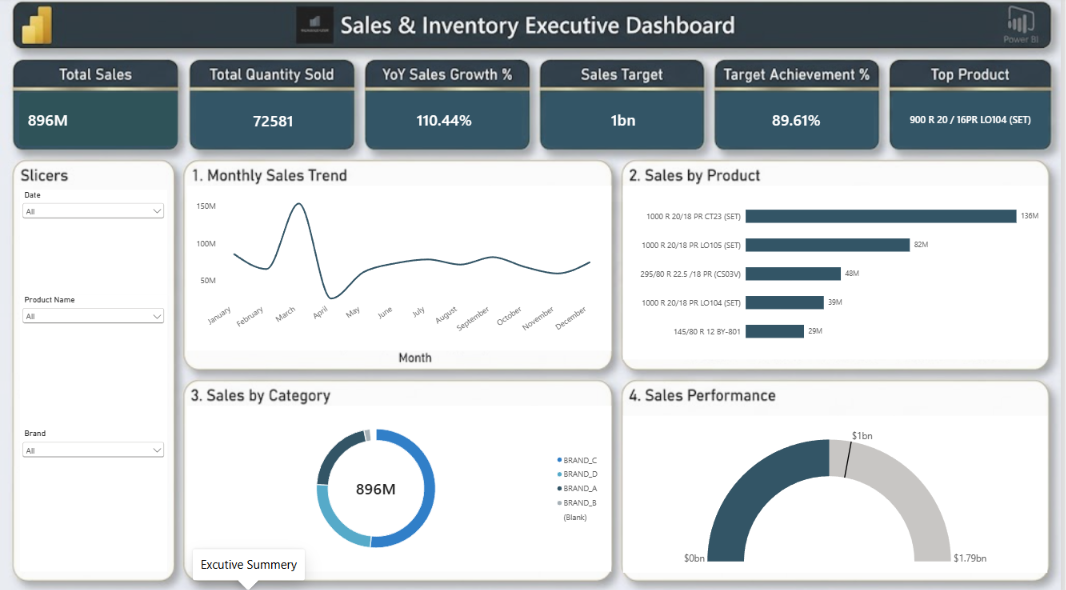

What the dashboard file says about the page in this screenshot:
{"tool":"powerbi","page":{"name":"Excutive Summery","canvas":[1920,1080],"ordinal":1},"visuals":[{"type":"cardVisual","fields":{"Data":["DS Data Set - Current Stock.Total Quantity sold"]},"box":[354,174,280,96],"z":0},{"type":"cardVisual","fields":{"Data":["DS Data Set - Current Stock.Top Product"]},"box":[1616,174,280,96],"z":1000},{"type":"cardVisual","fields":{"Data":["DS Data Set - Current Stock.Target Achivement %"]},"box":[1302,174,280,96],"z":2000},{"type":"cardVisual","fields":{"Data":["DS Data Set - Current Stock.Sales Target"]},"box":[988,172.9,280,96],"z":3000},{"type":"cardVisual","fields":{"Data":["DS Data Set - Current Stock.YoY Sales Growth"]},"box":[664,174,280,96],"z":4000},{"type":"lineChart","fields":{"Category":["DS Data Set - Sales.Date.Variation.Date Hierarchy.Month"],"Y":["Sum(DS Data Set - Sales.sales)"]},"box":[338,342,768,298],"z":5000},{"type":"barChart","fields":{"Category":["DS Data Set - Sales.Product Name"],"Y":["DS Data Set - Sales.Total Sales"]},"box":[1128,342,768,314],"z":6000},{"type":"donutChart","fields":{"Category":["DS Data Set - Supplier.Brand"],"Y":["DS Data Set - Sales.Total Sales"]},"box":[338,740,768,300],"z":7000},{"type":"gauge","fields":{"TargetValue":["DS Data Set - Current Stock.Sales Target"],"Y":["DS Data Set - Sales.Total Sales"]},"box":[1128,757.5,768,284],"z":8000},{"type":"slicer","fields":{"Values":["DS Data Set - Sales.Date"]},"box":[36,350,266,190],"z":9000},{"type":"cardVisual","fields":{"Data":["DS Data Set - Current Stock.Total Quantity sold"]},"box":[354,175,279.9,94.7],"z":10000},{"type":"slicer","fields":{"Values":["DS Data Set - Sales.Product Name"]},"box":[36,540,266,242],"z":11000},{"type":"slicer","fields":{"Values":["DS Data Set - Supplier.Brand"]},"box":[36,782,266,258],"z":12000},{"type":"cardVisual","fields":{"Data":["DS Data Set - Sales.Total Sales"]},"box":[35,172.9,286.1,96.7],"z":13000}]}

Visuals, with their boxes in screenshot pixels (x1, y1, x2, y2), scaled from the page's 1920x1080 canvas onto the 1066x590 screenshot:
cardVisual - DS Data Set - Current Stock.Total Quantity sold: Rect(197, 95, 352, 148)
cardVisual - DS Data Set - Current Stock.Top Product: Rect(897, 95, 1053, 148)
cardVisual - DS Data Set - Current Stock.Target Achivement %: Rect(723, 95, 878, 148)
cardVisual - DS Data Set - Current Stock.Sales Target: Rect(549, 94, 704, 147)
cardVisual - DS Data Set - Current Stock.YoY Sales Growth: Rect(369, 95, 524, 148)
lineChart - DS Data Set - Sales.Date.Variation.Date Hierarchy.Month x Sum(DS Data Set - Sales.sales): Rect(188, 187, 614, 350)
barChart - DS Data Set - Sales.Product Name x DS Data Set - Sales.Total Sales: Rect(626, 187, 1053, 358)
donutChart - DS Data Set - Supplier.Brand x DS Data Set - Sales.Total Sales: Rect(188, 404, 614, 568)
gauge - DS Data Set - Current Stock.Sales Target x DS Data Set - Sales.Total Sales: Rect(626, 414, 1053, 569)
slicer - DS Data Set - Sales.Date: Rect(20, 191, 168, 295)
cardVisual - DS Data Set - Current Stock.Total Quantity sold: Rect(197, 96, 352, 147)
slicer - DS Data Set - Sales.Product Name: Rect(20, 295, 168, 427)
slicer - DS Data Set - Supplier.Brand: Rect(20, 427, 168, 568)
cardVisual - DS Data Set - Sales.Total Sales: Rect(19, 94, 178, 147)
